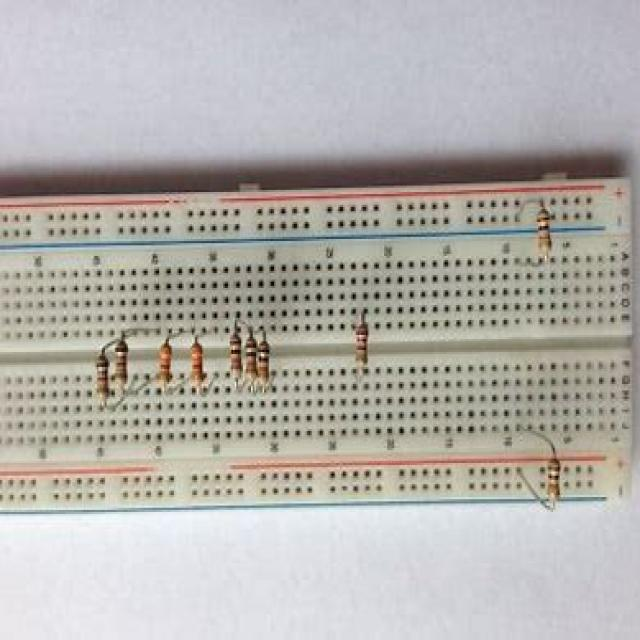capacitor: (112, 336, 132, 394), (546, 453, 564, 508), (189, 338, 207, 392), (536, 206, 554, 260), (155, 339, 174, 390), (353, 319, 370, 374), (92, 349, 110, 400), (256, 336, 272, 386), (244, 336, 259, 387), (228, 331, 243, 381)
